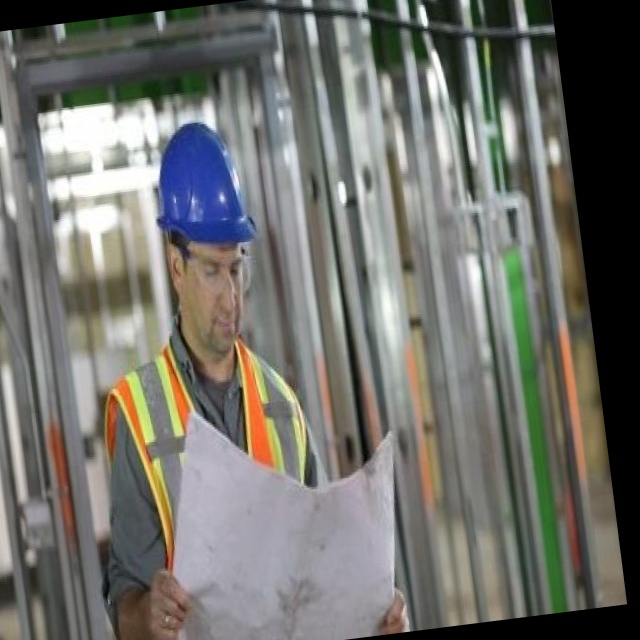Con_Casco: (147, 119, 265, 340)
